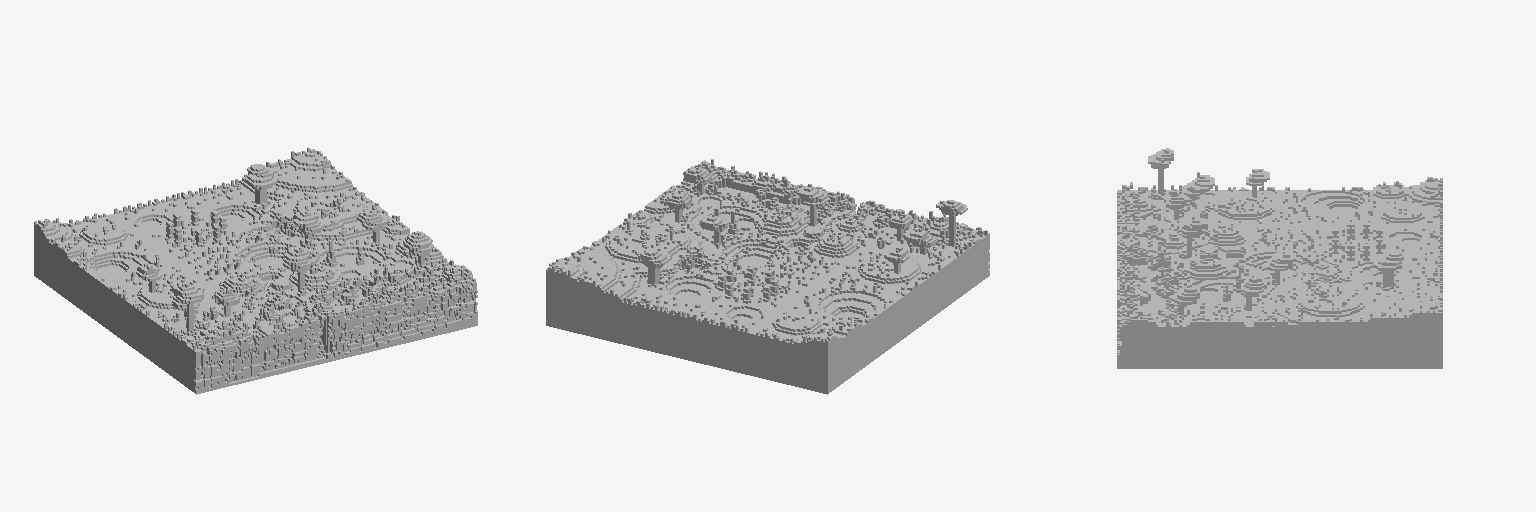
File: orange-plains.obj
The picture shows the model from 3 angles: view 1: azimuth 30°, elevation 25°; view 2: azimuth 150°, elevation 25°; view 3: azimuth 270°, elevation 25°; orthographic projection.
Visible parts, largest first — view 1: orange-plains; view 2: orange-plains; view 3: orange-plains.
Part boxes in pixels (x1,y1,x2,y2): orange-plains: (34, 147, 477, 394); orange-plains: (546, 159, 989, 394); orange-plains: (1117, 148, 1442, 368).
Size of the model in its own units: 126 by 38 by 126.